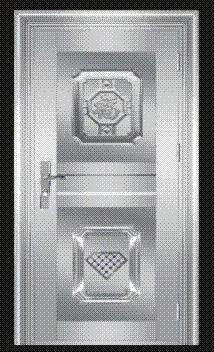door: (18, 17, 199, 344)
